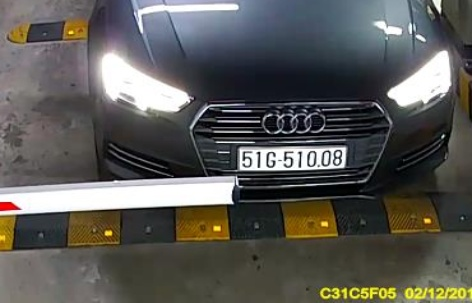plate: (237, 142, 346, 172)
